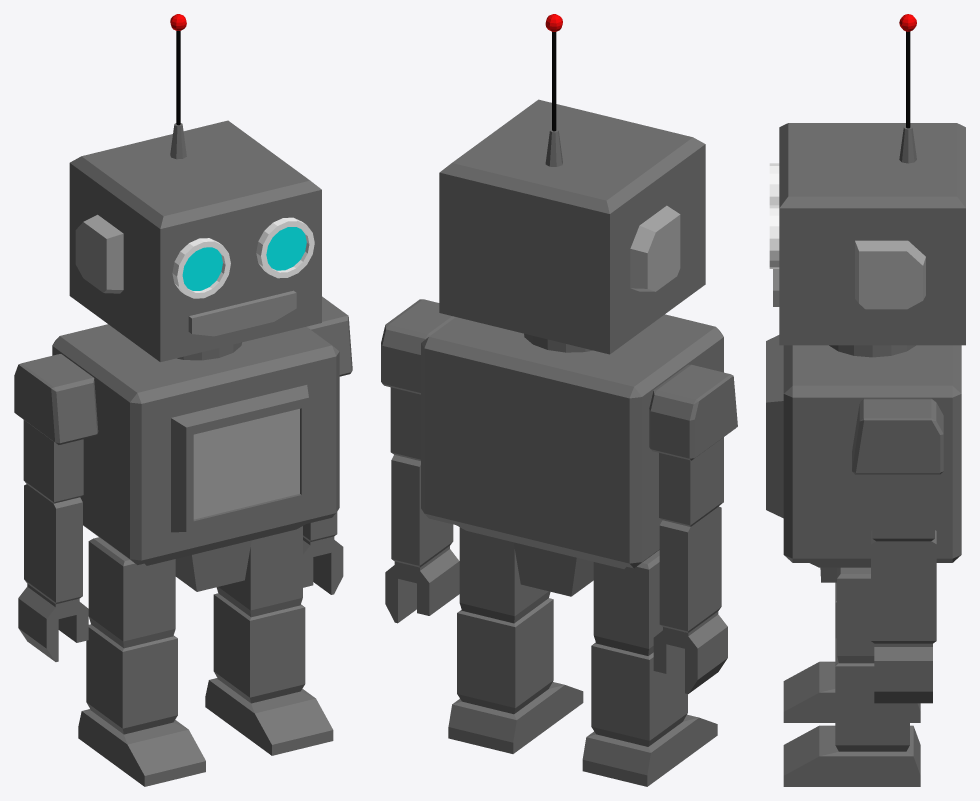
File: robot.fbx
3 views of the same model, side by side, from view 1: azimuth 30°, elevation 25°; view 2: azimuth 150°, elevation 25°; view 3: azimuth 270°, elevation 25° (orthographic). The views are drawn at different scales.
Visible parts, largest first — view 1: robot_body, robot_head, leg_r, leg_l, arm_r, hands_r, legs_base, arm_l, hands_l, antenna; view 2: robot_head, robot_body, leg_l, leg_r, arm_r, arm_l, hands_l, hands_r, legs_base, antenna; view 3: robot_head, robot_body, arm_l, leg_l, hands_l, leg_r, antenna, legs_base.
Boxes of the visible parts, left/top/right/bottom form: robot_body: left=52, top=324, right=339, bottom=564; robot_head: left=69, top=120, right=321, bottom=362; leg_r: left=78, top=537, right=205, bottom=786; leg_l: left=205, top=526, right=333, bottom=755; arm_r: left=14, top=354, right=98, bottom=604; hands_r: left=18, top=584, right=88, bottom=661; legs_base: left=144, top=524, right=305, bottom=591; arm_l: left=303, top=296, right=352, bottom=542; hands_l: left=303, top=536, right=343, bottom=594; antenna: left=170, top=14, right=186, bottom=125; robot_head: left=439, top=99, right=705, bottom=354; robot_body: left=421, top=314, right=723, bottom=568; leg_l: left=448, top=527, right=583, bottom=753; leg_r: left=582, top=550, right=717, bottom=786; arm_r: left=649, top=364, right=737, bottom=632; arm_l: left=381, top=299, right=455, bottom=567; hands_l: left=385, top=546, right=459, bottom=623; hands_r: left=653, top=611, right=727, bottom=693; legs_base: left=456, top=525, right=626, bottom=596; antenna: left=545, top=14, right=562, bottom=131; robot_head: left=769, top=123, right=965, bottom=357; robot_body: left=766, top=335, right=961, bottom=562; arm_l: left=852, top=398, right=943, bottom=643; leg_l: left=783, top=567, right=920, bottom=786; hands_l: left=874, top=643, right=932, bottom=703; leg_r: left=783, top=582, right=920, bottom=722; antenna: left=899, top=14, right=916, bottom=128; legs_base: left=810, top=563, right=870, bottom=582.
Bounding box in the file's own units: 199 × 450 × 113.
